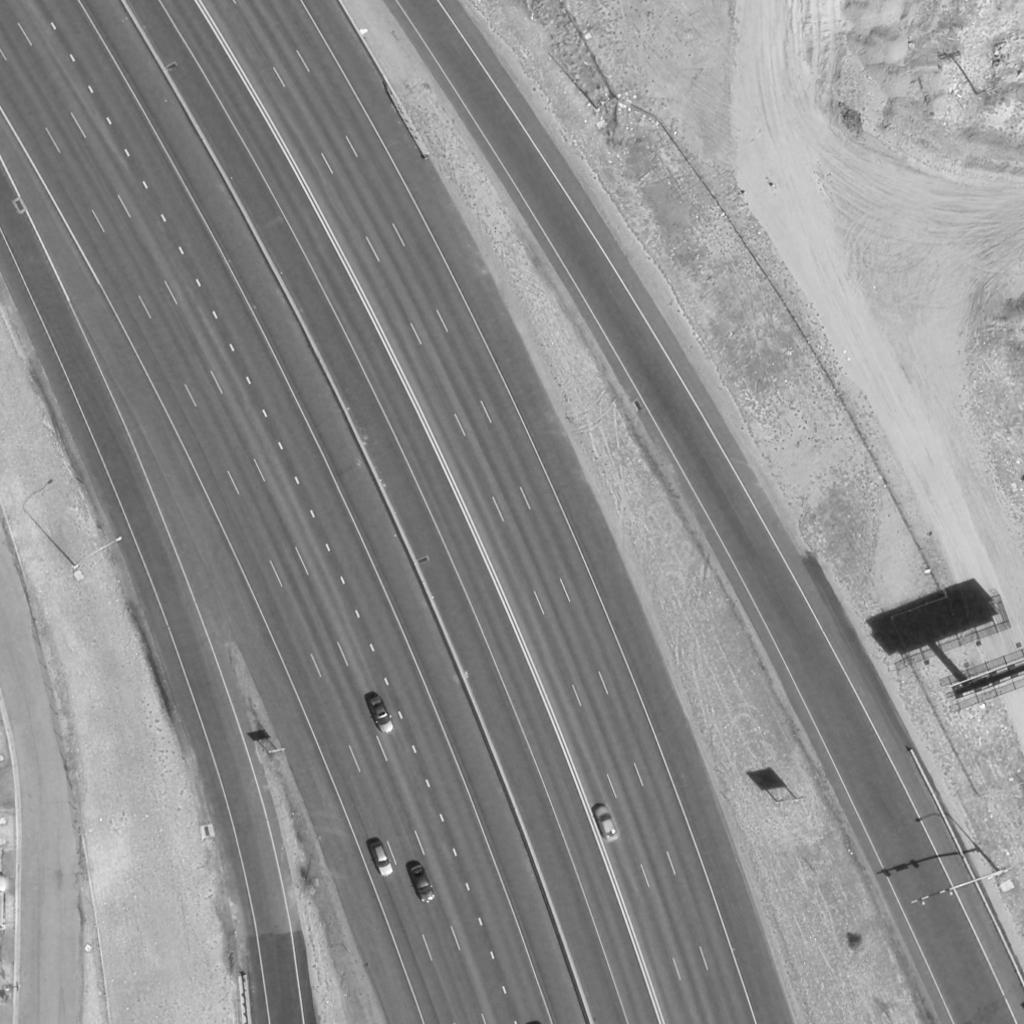vehicle: (366, 693, 394, 735), (409, 864, 437, 904), (591, 803, 619, 841), (368, 840, 394, 876)
